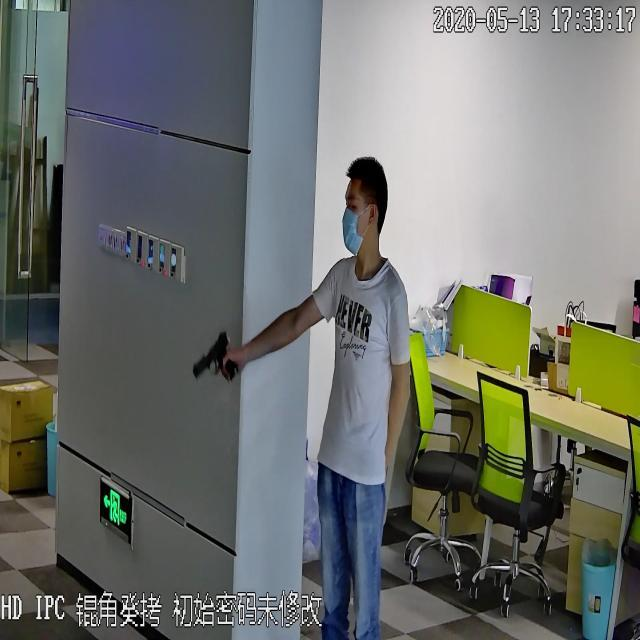gun-knife-thesis - v11 Yolov5 augmented: (187, 323, 237, 391)
